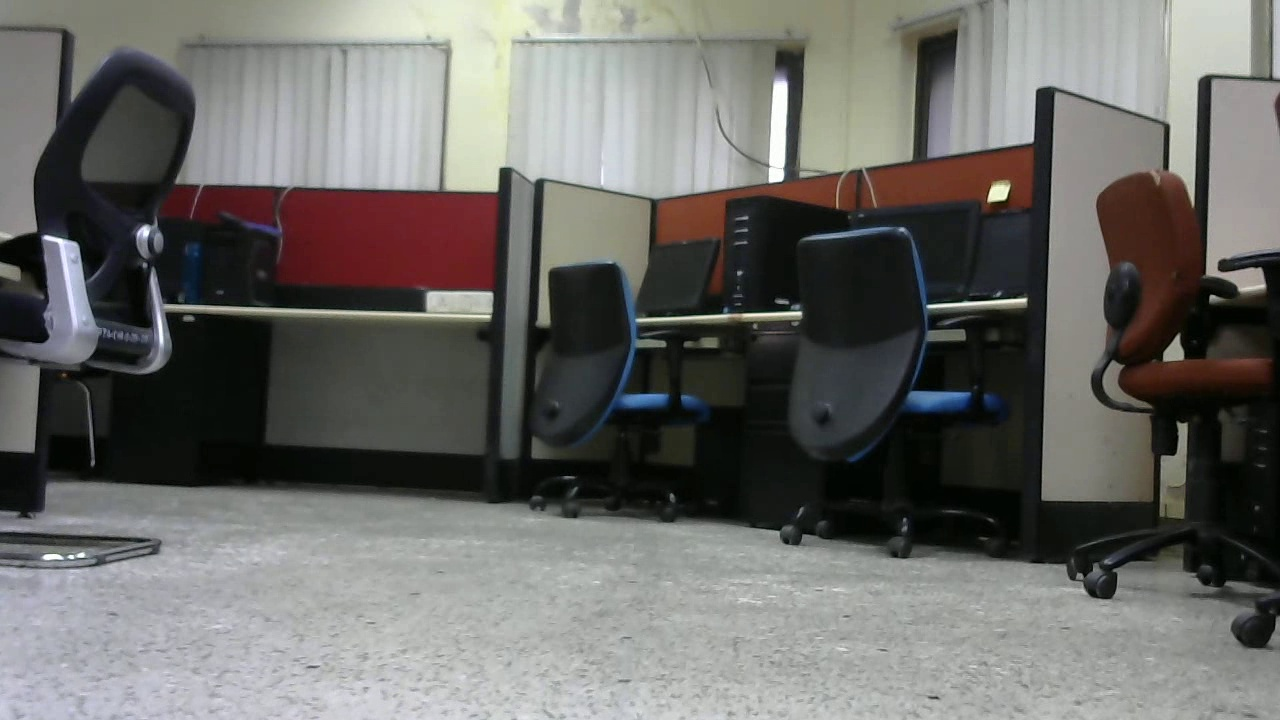chair: (1, 40, 240, 571), (1070, 168, 1280, 598), (765, 218, 1010, 557), (522, 256, 717, 520)
